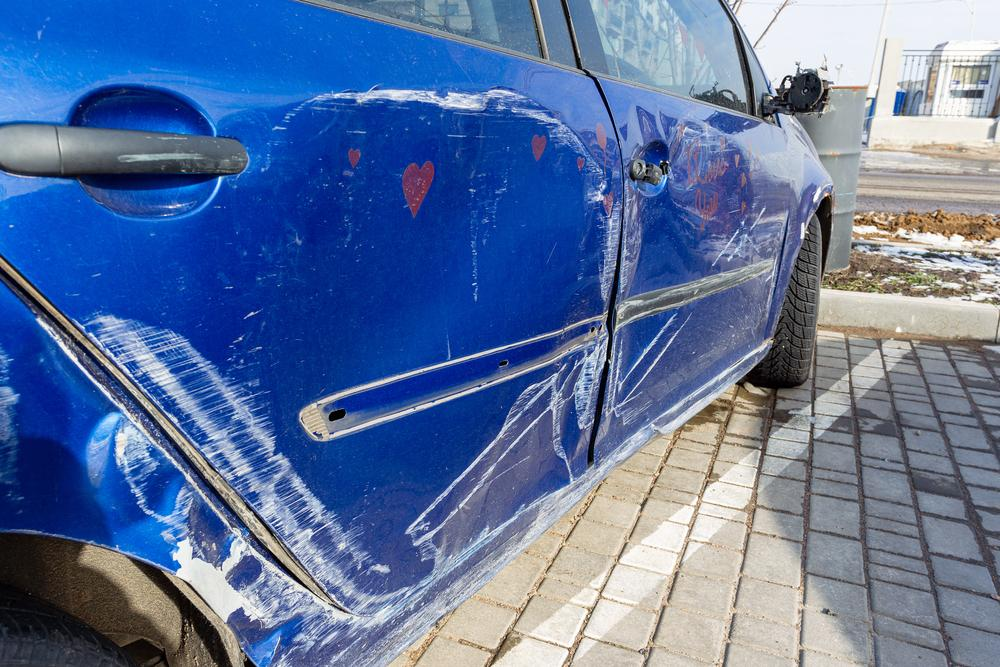dent: (235, 109, 605, 520), (670, 116, 705, 187)
scratch: (71, 82, 620, 617), (115, 413, 599, 667), (607, 210, 786, 428), (0, 349, 24, 507)
